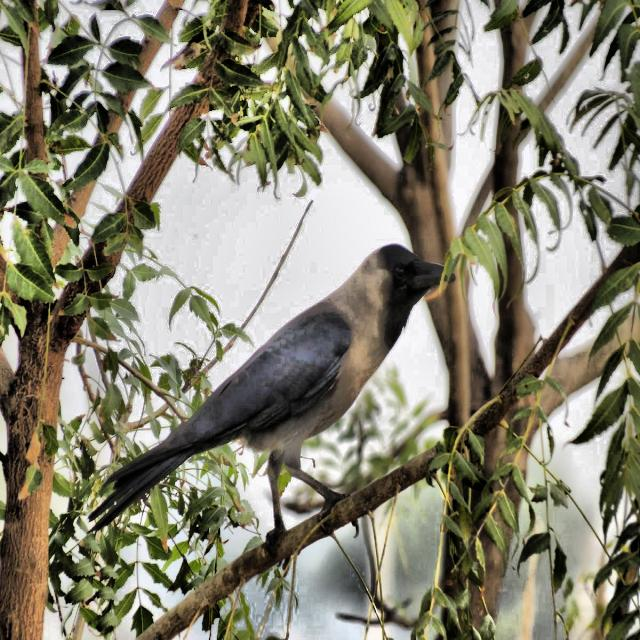crow: (99, 237, 474, 560)
